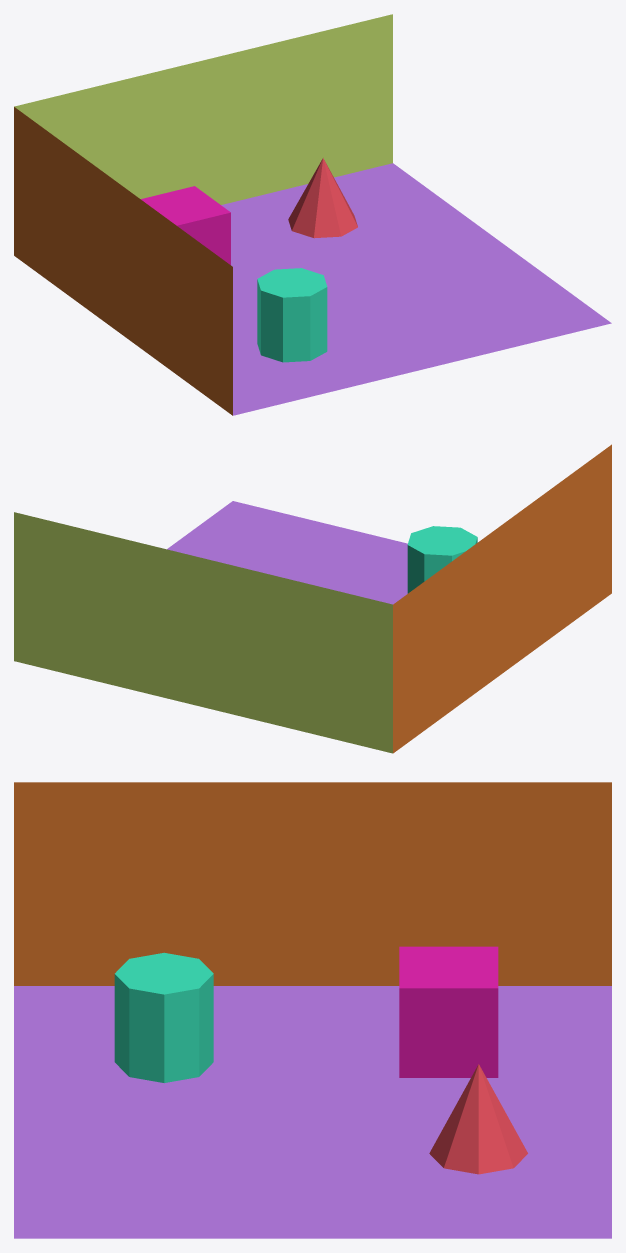
Rendered from FoodCourt.glb.
The picture shows the model from 3 angles, top to bottom: view 1: azimuth 30°, elevation 25°; view 2: azimuth 150°, elevation 25°; view 3: azimuth 270°, elevation 25°; orthographic projection. The views are drawn at different scales.
Parts seen in each view (by area): view 1: Plane, Plane.003, Plane.001, Plane.002; view 2: Plane, Plane.003; view 3: Plane, Plane.001, Plane.003, Plane.002.
Boxes of the visible parts, box(x1,y1,x2,y2) form: Plane: box(14, 14, 611, 415); Plane.003: box(257, 268, 327, 362); Plane.001: box(141, 186, 230, 264); Plane.002: box(288, 158, 357, 238); Plane: box(14, 444, 611, 753); Plane.003: box(407, 526, 477, 593); Plane: box(14, 782, 611, 1238); Plane.001: box(399, 946, 498, 1077); Plane.003: box(114, 952, 213, 1082); Plane.002: box(429, 1064, 527, 1174).
Bounding box in the file's own units: 12.08 × 4.56 × 12.08.
